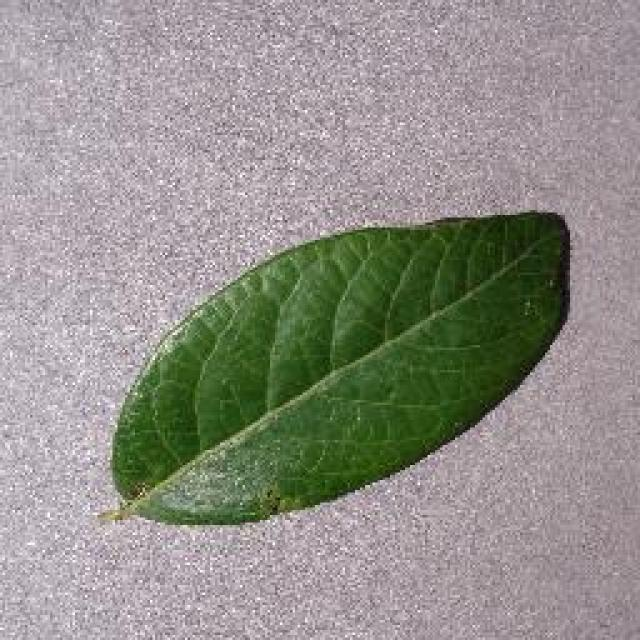Blu_healthy: (164, 274, 511, 502)
